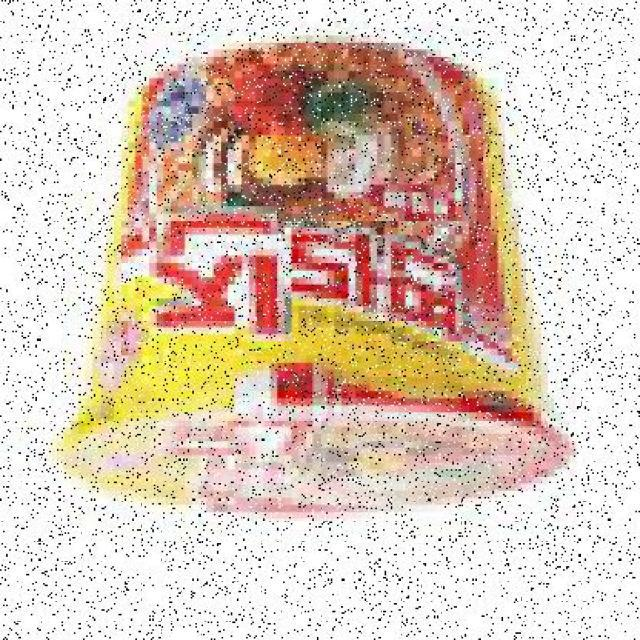Miscellaneous: (61, 50, 566, 515)
